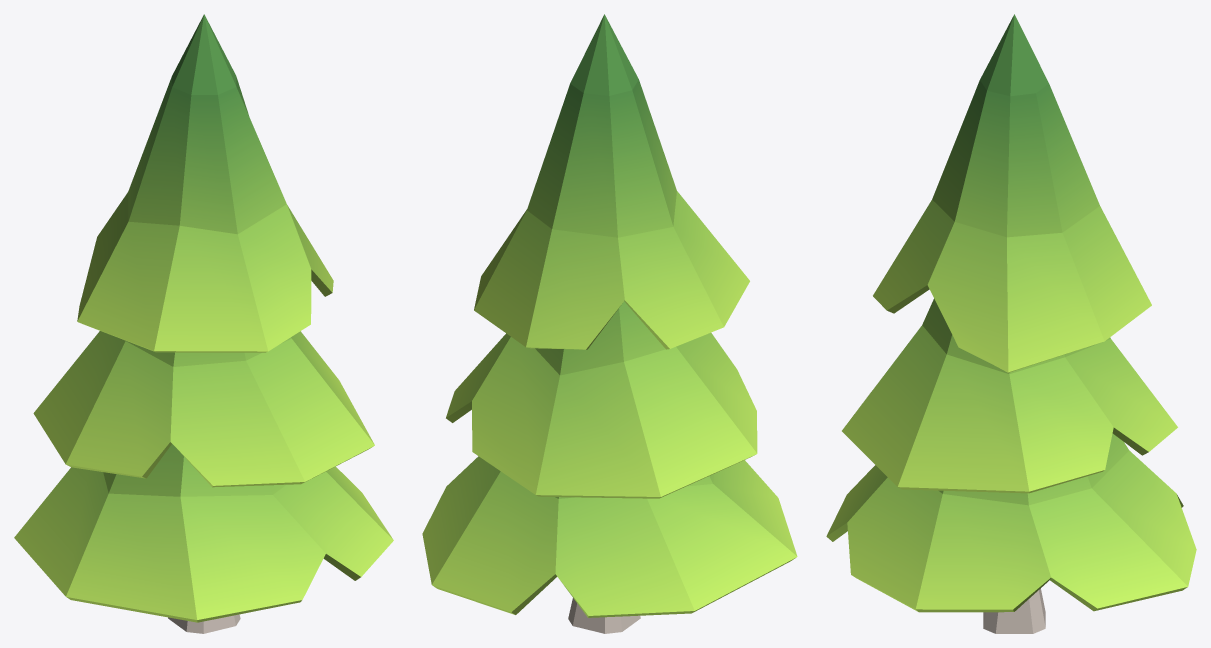
Rendered from GreenPine2.fbx.
The picture shows the model from 3 angles, left to right: view 1: azimuth 30°, elevation 25°; view 2: azimuth 150°, elevation 25°; view 3: azimuth 270°, elevation 25°; orthographic projection.
Parts seen in each view (by area): view 1: GreenPine2; view 2: GreenPine2; view 3: GreenPine2.
Part boxes in pixels (box(x1,y1,x2,y2)): GreenPine2: box(14, 14, 393, 633); GreenPine2: box(422, 14, 797, 633); GreenPine2: box(826, 14, 1196, 633).
Size of the model in its own units: 432 by 773 by 428.
